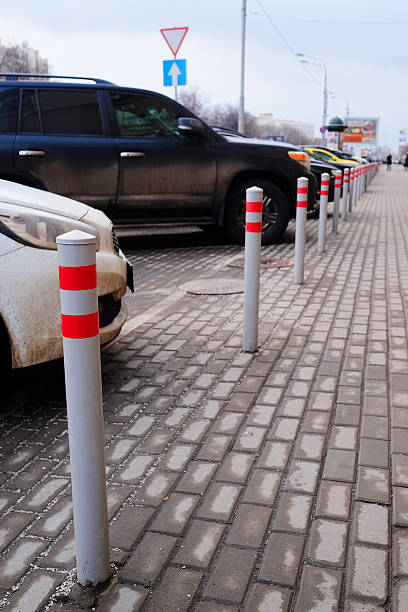bollard: (54, 225, 116, 597), (235, 182, 271, 360), (290, 175, 315, 291)
